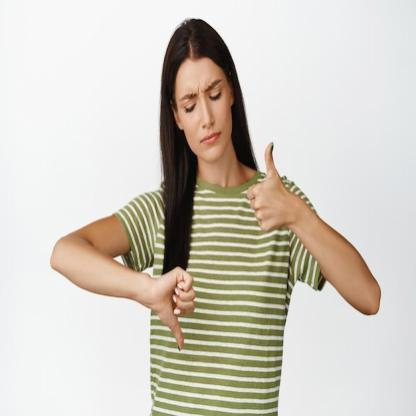thumb_down: (152, 260, 198, 358)
thumb_up: (245, 138, 293, 236)
